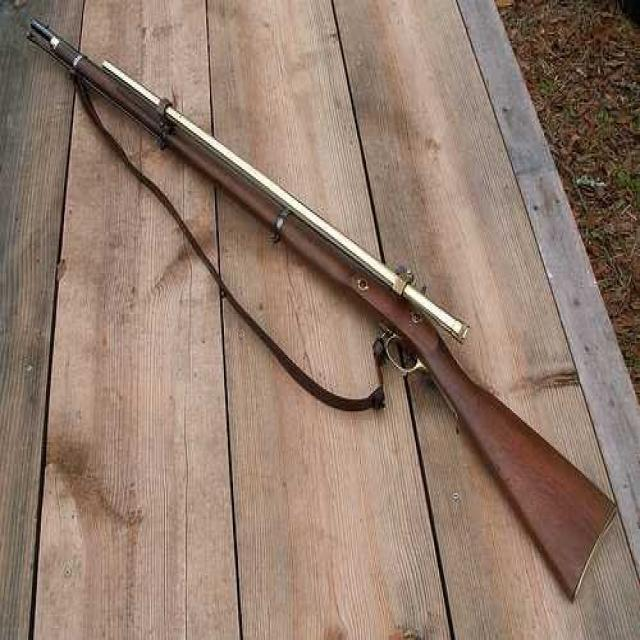weapon: (31, 12, 632, 620)
